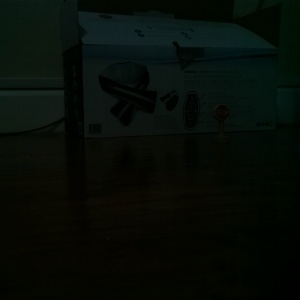stop sign: (210, 102, 232, 144)
